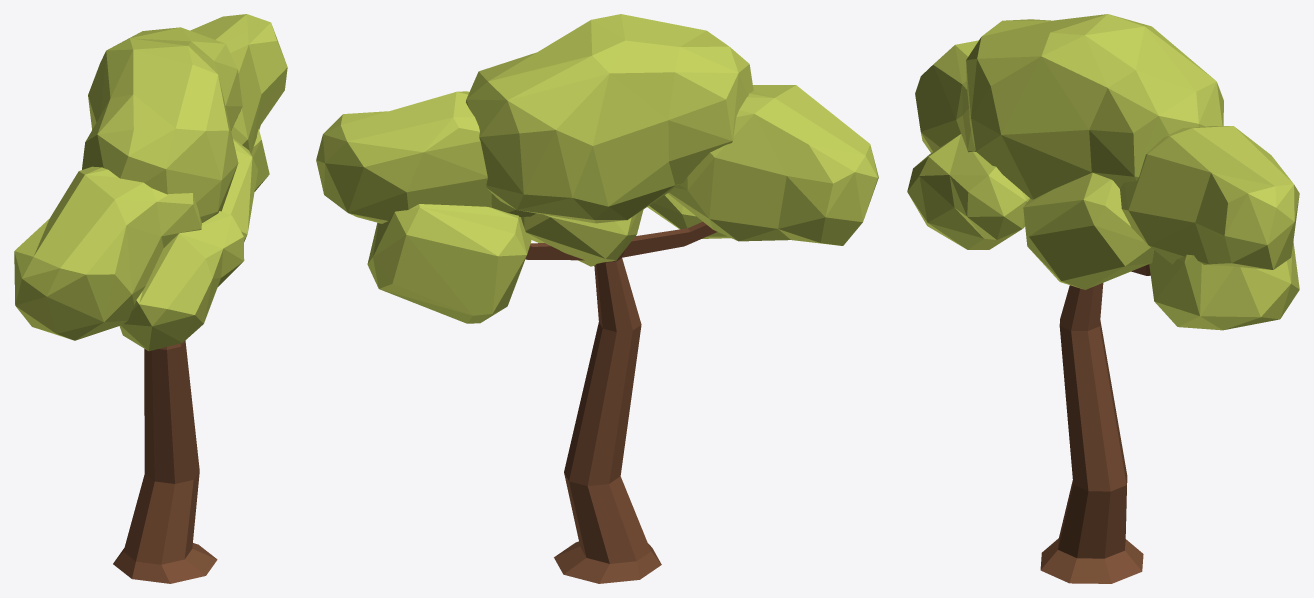
The model's file is arbol7.glb.
3 renders of one model, left to right at view 1: azimuth 30°, elevation 25°; view 2: azimuth 150°, elevation 25°; view 3: azimuth 270°, elevation 25°, orthographic. The views are drawn at different scales.
Visible parts, largest first — view 1: Circle_2; view 2: Circle_2; view 3: Circle_2.
Boxes of the visible parts, left/top/right/bottom form: Circle_2: left=14, top=14, right=287, bottom=583; Circle_2: left=316, top=14, right=878, bottom=583; Circle_2: left=907, top=14, right=1299, bottom=583.
Size of the model in its own units: 1.97 by 2.43 by 1.61.
